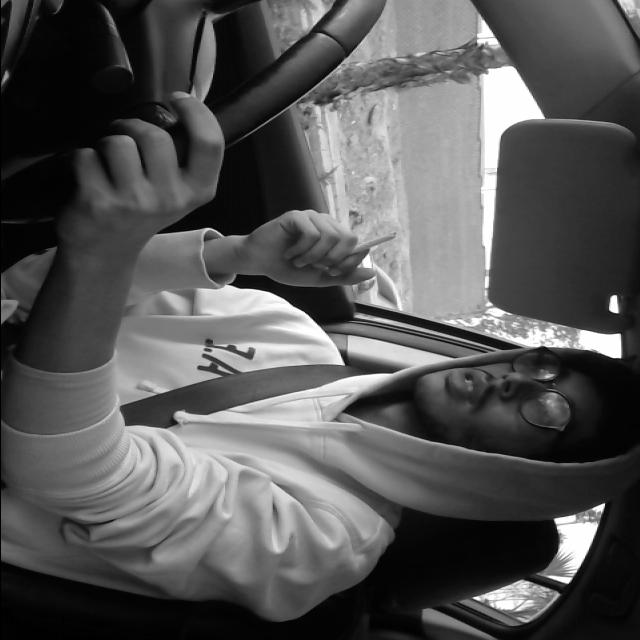smoking: (314, 228, 402, 258)
